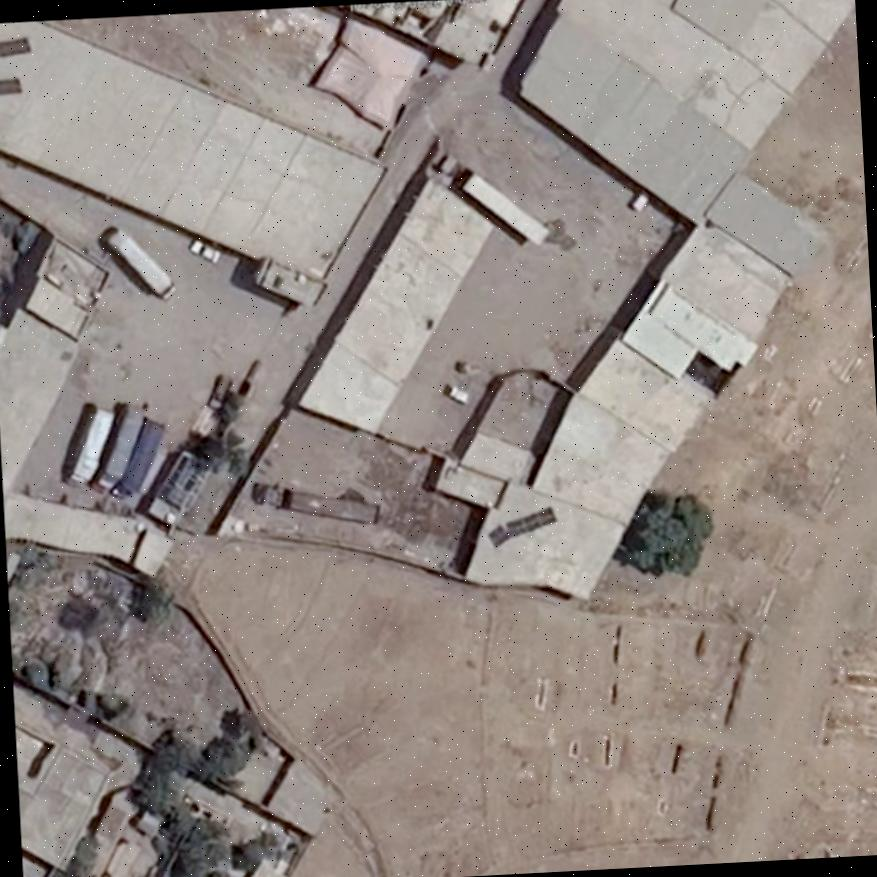Solarpanel: (506, 505, 557, 538), (0, 37, 29, 55), (486, 525, 509, 547), (0, 76, 23, 93)
